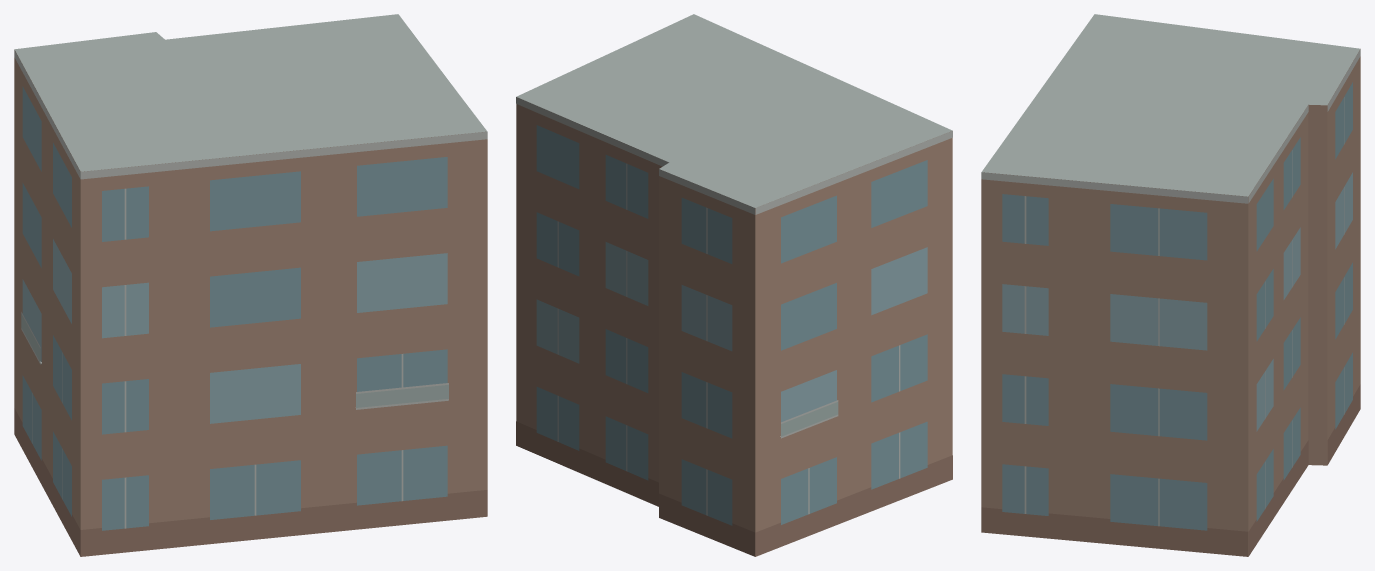
Rendered from survey-upis-32525899.glb.
The picture shows the model from 3 angles, left to right: view 1: azimuth 30°, elevation 25°; view 2: azimuth 150°, elevation 25°; view 3: azimuth 270°, elevation 25°; orthographic projection. The views are drawn at different scales.
Parts seen in each view (by area): view 1: survey-upis-32525899.tmp; view 2: survey-upis-32525899.tmp; view 3: survey-upis-32525899.tmp.
Boxes of the visible parts, x1=… form: survey-upis-32525899.tmp: x1=14, y1=14, x2=487, y2=556; survey-upis-32525899.tmp: x1=516, y1=14, x2=952, y2=556; survey-upis-32525899.tmp: x1=981, y1=14, x2=1360, y2=556.
Size of the model in its own units: 13.27 by 12.2 by 11.65.
